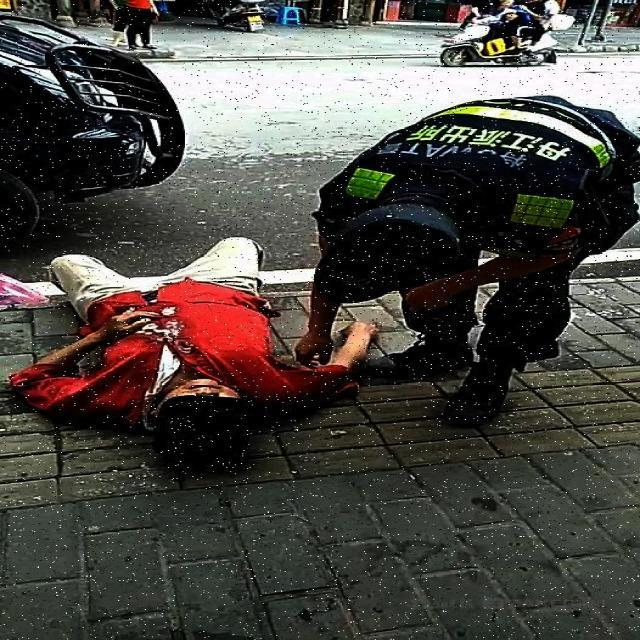fall: (42, 242, 356, 452)
